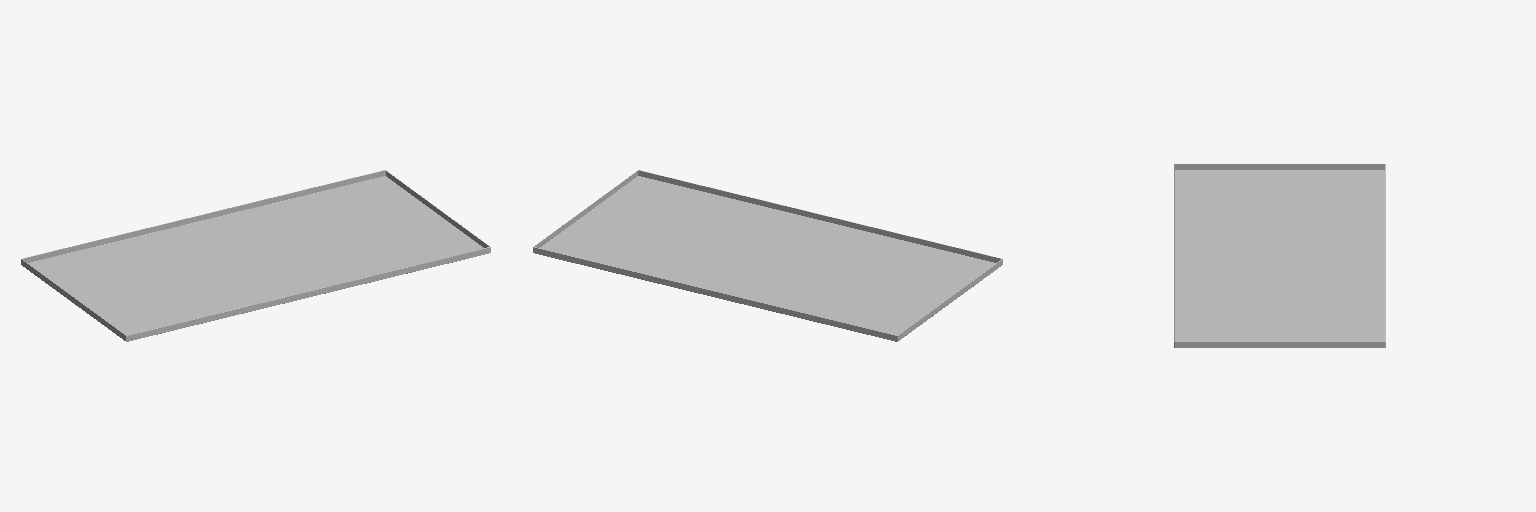
Rendered from SM_TV_Wandboard.obj.
3 views of the same model, side by side, from view 1: azimuth 30°, elevation 25°; view 2: azimuth 150°, elevation 25°; view 3: azimuth 270°, elevation 25° (orthographic).
Parts seen in each view (by area): view 1: SM_TV_Wandboard; view 2: SM_TV_Wandboard; view 3: SM_TV_Wandboard.
Part boxes in pixels (bbox=[...]): SM_TV_Wandboard: bbox=[21, 170, 490, 341]; SM_TV_Wandboard: bbox=[533, 170, 1002, 341]; SM_TV_Wandboard: bbox=[1174, 164, 1385, 347].
Bounding box in the file's own units: 1.2 × 0.019 × 0.602.